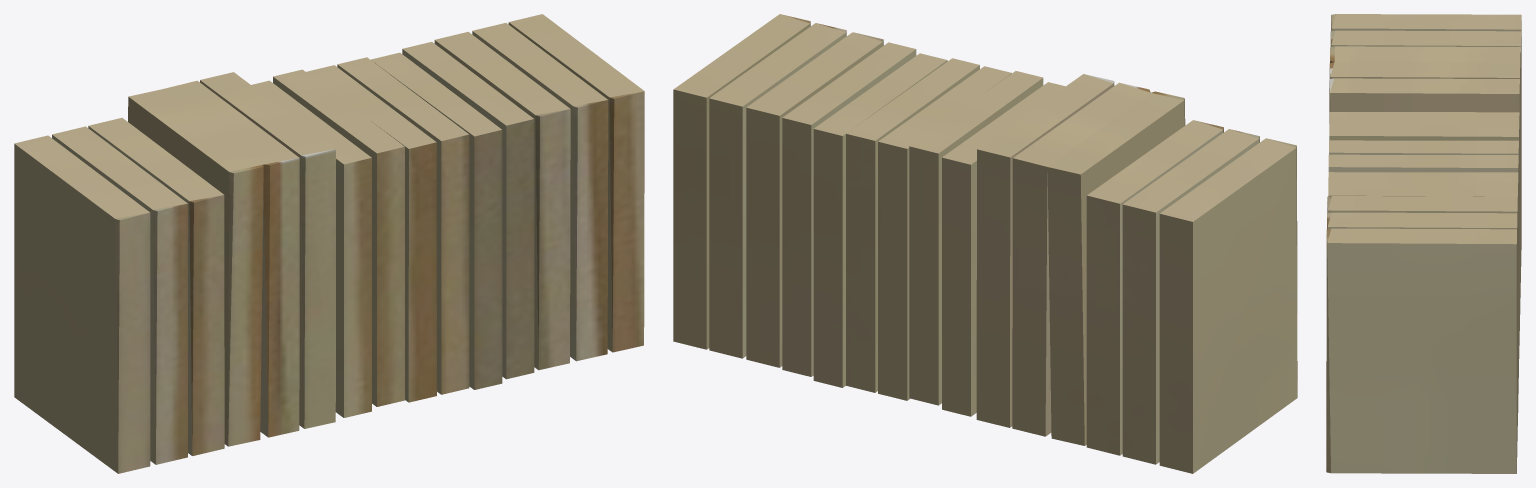
File: book1_v2.dae
The picture shows the model from 3 angles, left to right: view 1: azimuth 30°, elevation 25°; view 2: azimuth 150°, elevation 25°; view 3: azimuth 270°, elevation 25°; orthographic projection. The views are drawn at different scales.
Parts seen in each view (by area): view 1: node; view 2: node; view 3: node.
Part boxes in pixels (left/top/right/bottom): node: left=14, top=14, right=644, bottom=473; node: left=673, top=14, right=1297, bottom=473; node: left=1326, top=14, right=1521, bottom=473.
Bounding box in the file's own units: 0.348 × 0.1732 × 0.1232.
Materials: 1 (1 with a texture image).
